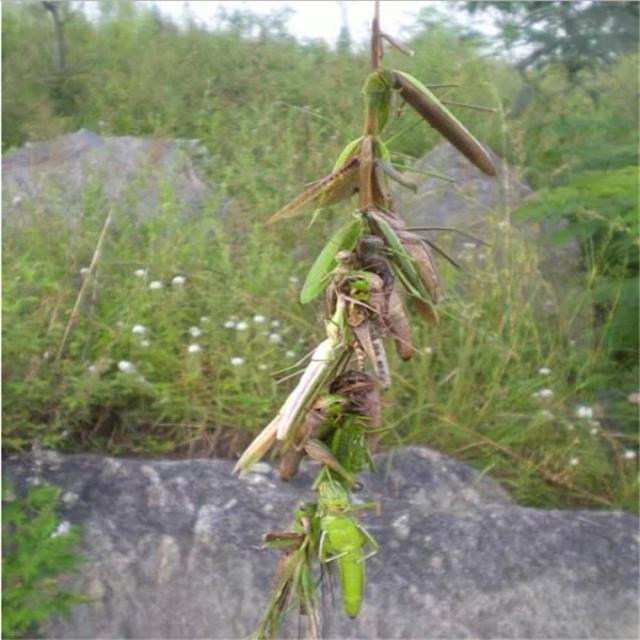ZhaMeng: (302, 478, 391, 624)
